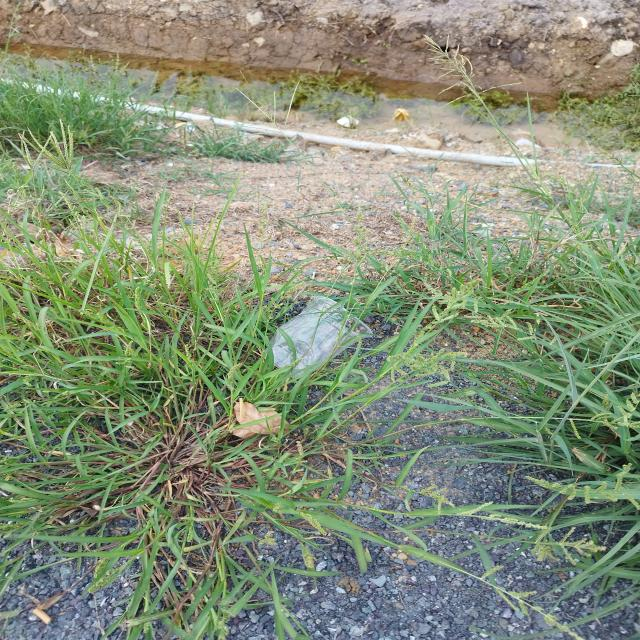plastic glass: (265, 296, 373, 377)
